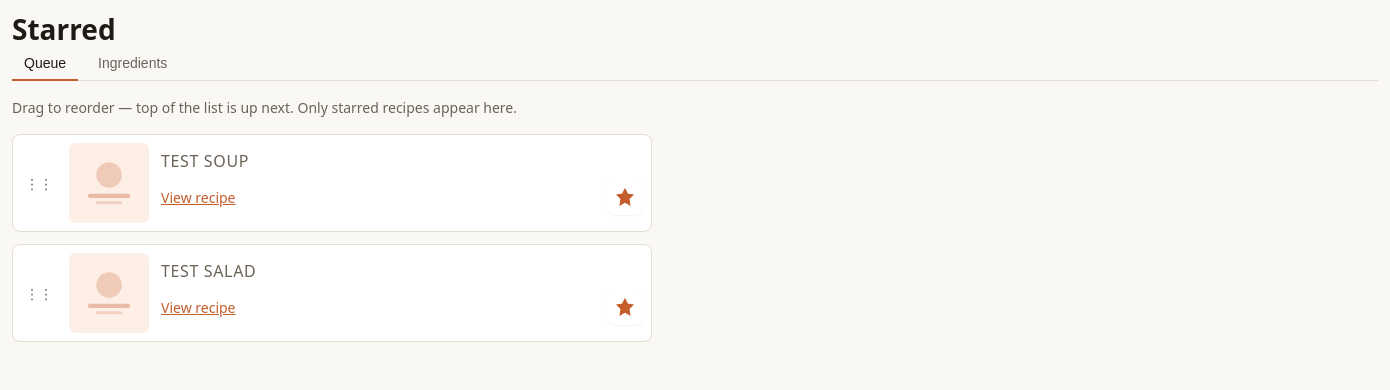
Scenario: StarredPage › shows merged ingredients on the Ingredients tab
Click the tab "Ingredients": [133, 64] box [86, 47, 179, 81]
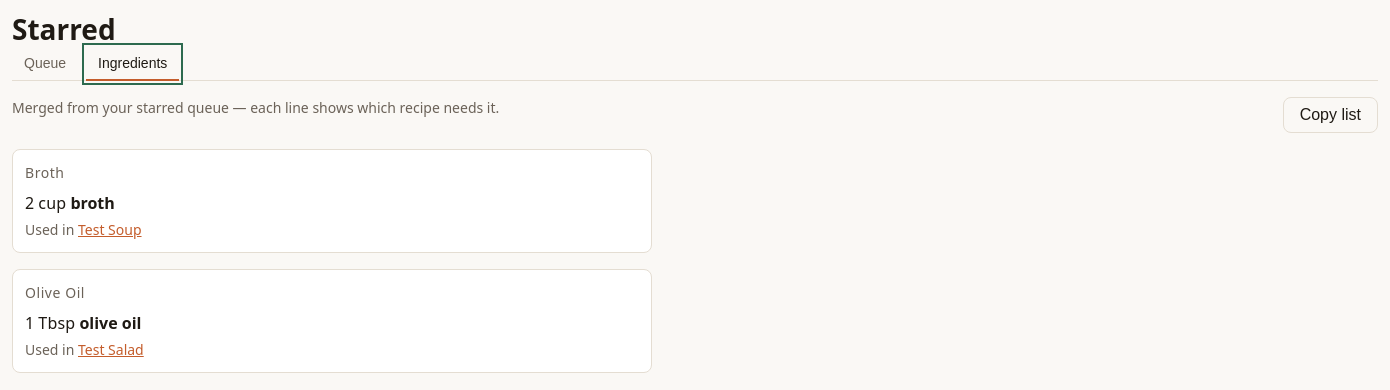
Check: the link "Test Soup" is shown, box [78, 220, 142, 239]
Check: the heading "broth" is shown, box [25, 163, 65, 182]
Check: the heading "olive oil" is shown, box [25, 283, 85, 302]
